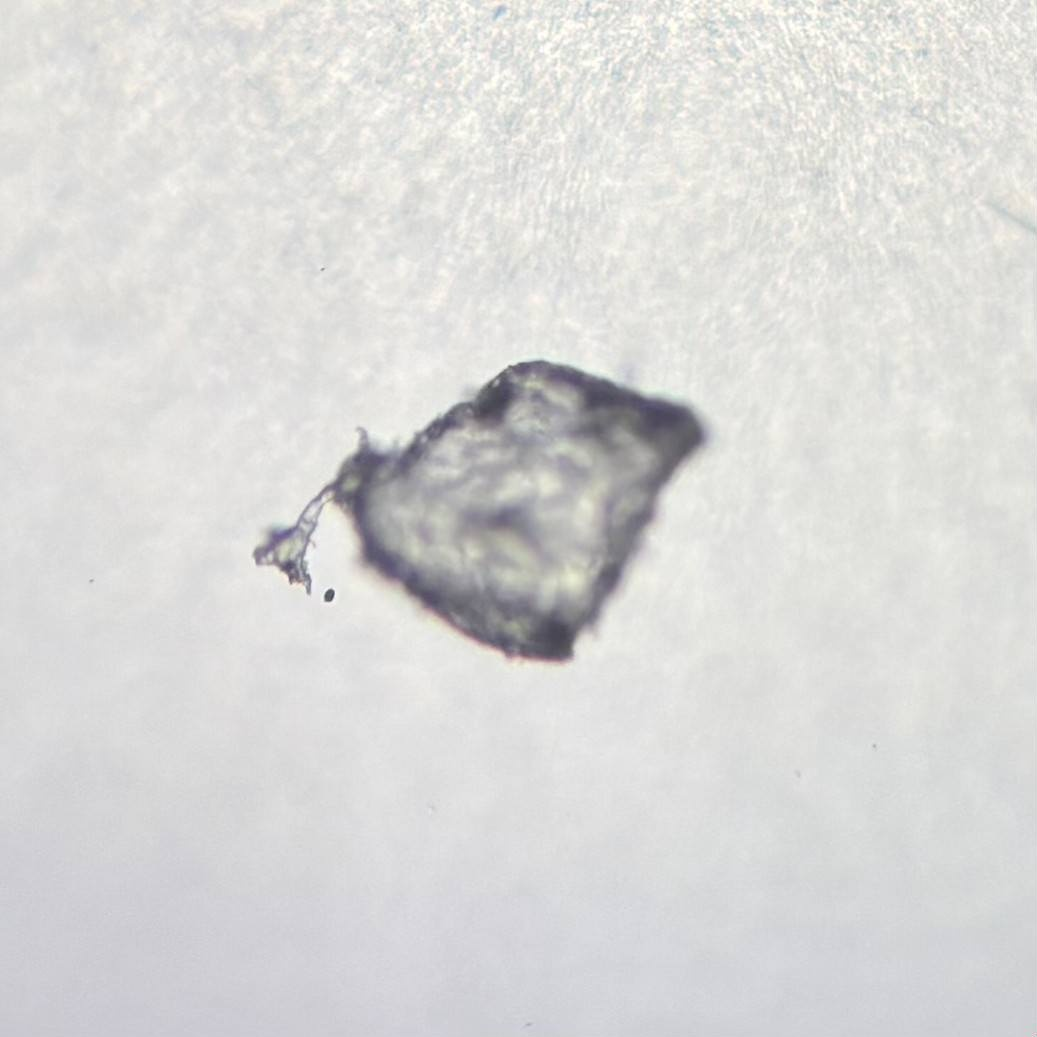microplastic: (251, 358, 715, 669)
